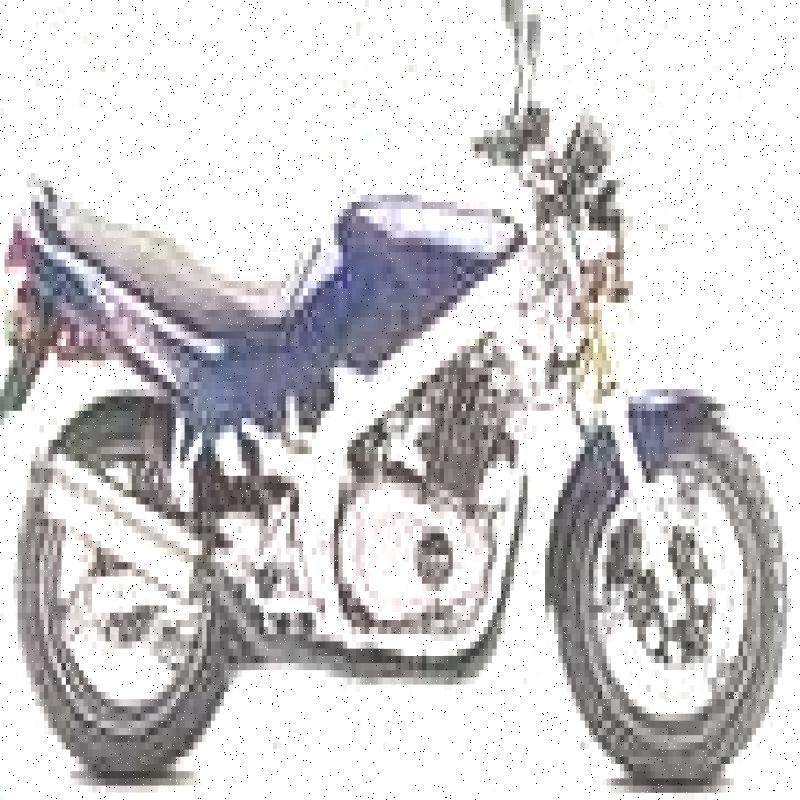bike: (13, 12, 800, 748)
